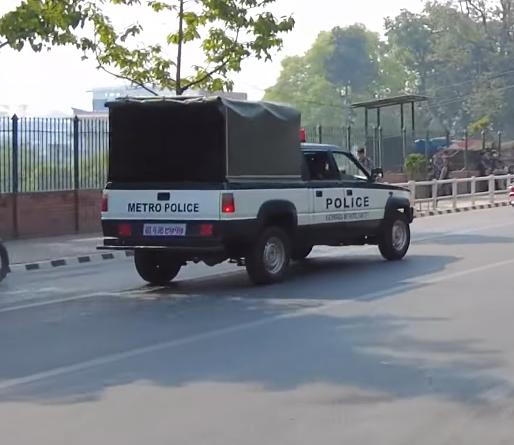transport_vehicle: (95, 91, 423, 287)
